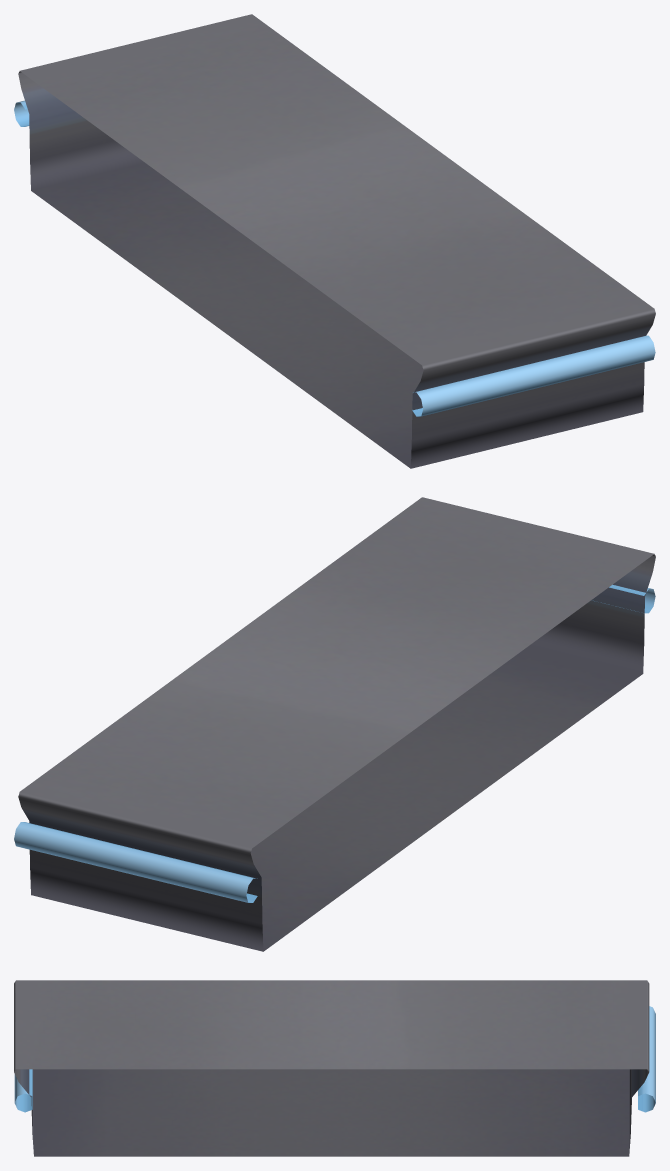
Rendered from Space_MovingPlatMid_Horiz.fbx.
3 views of the same model, one above another, from view 1: azimuth 30°, elevation 25°; view 2: azimuth 150°, elevation 25°; view 3: azimuth 270°, elevation 25° (orthographic). The views are drawn at different scales.
Visible parts, largest first — view 1: polySurface745; view 2: polySurface745; view 3: polySurface745.
Part boxes in pixels (x1=…): polySurface745: x1=14, y1=14, x2=655, y2=468; polySurface745: x1=14, y1=497, x2=655, y2=951; polySurface745: x1=14, y1=980, x2=655, y2=1156.
Bounding box in the file's own units: 100 × 45.91 × 305.
